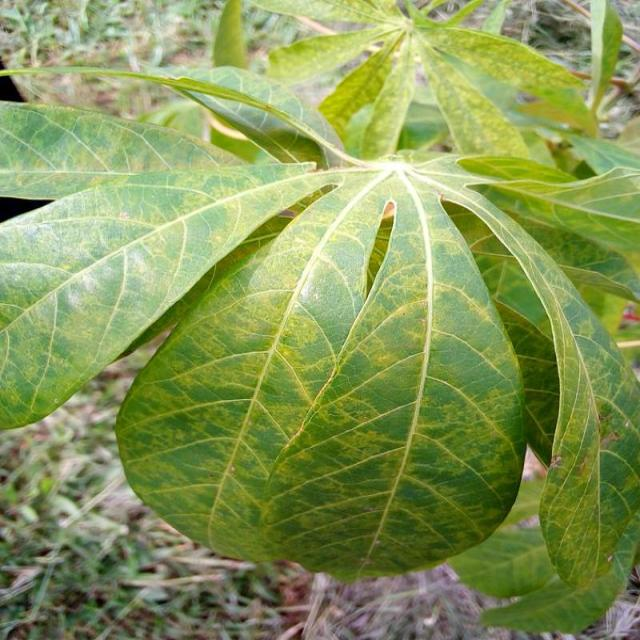cassava leaf: (2, 7, 639, 630), (114, 162, 529, 583), (1, 159, 335, 431)
